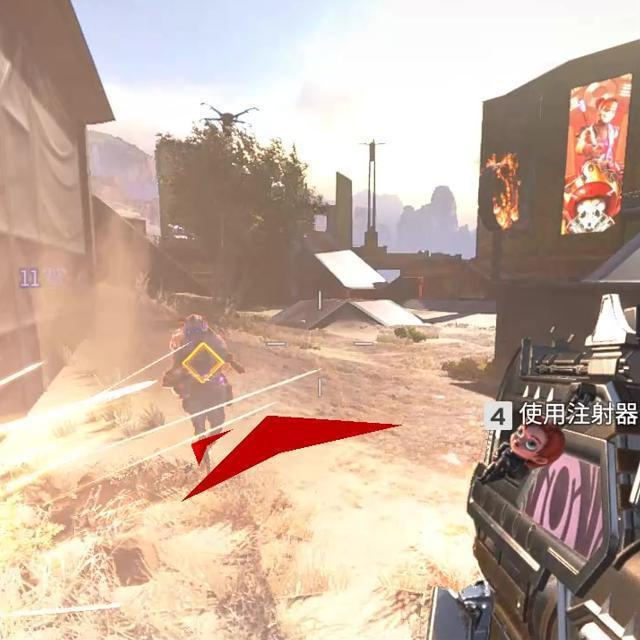avatar: (160, 312, 247, 438)
object: (181, 341, 226, 384)
